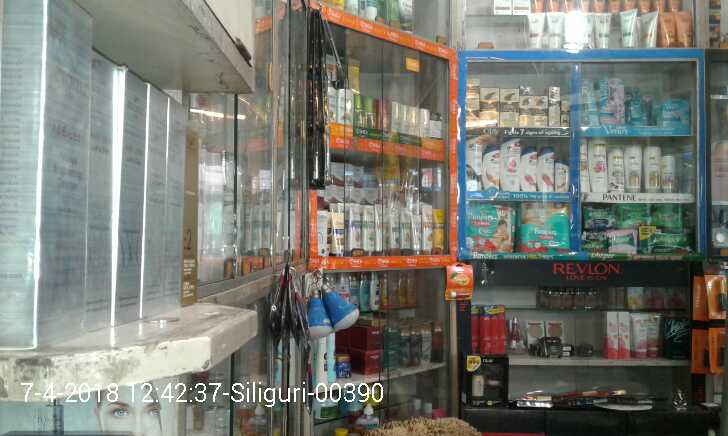venus: (598, 77, 625, 123), (661, 97, 692, 128), (630, 87, 656, 122), (581, 78, 596, 124)
